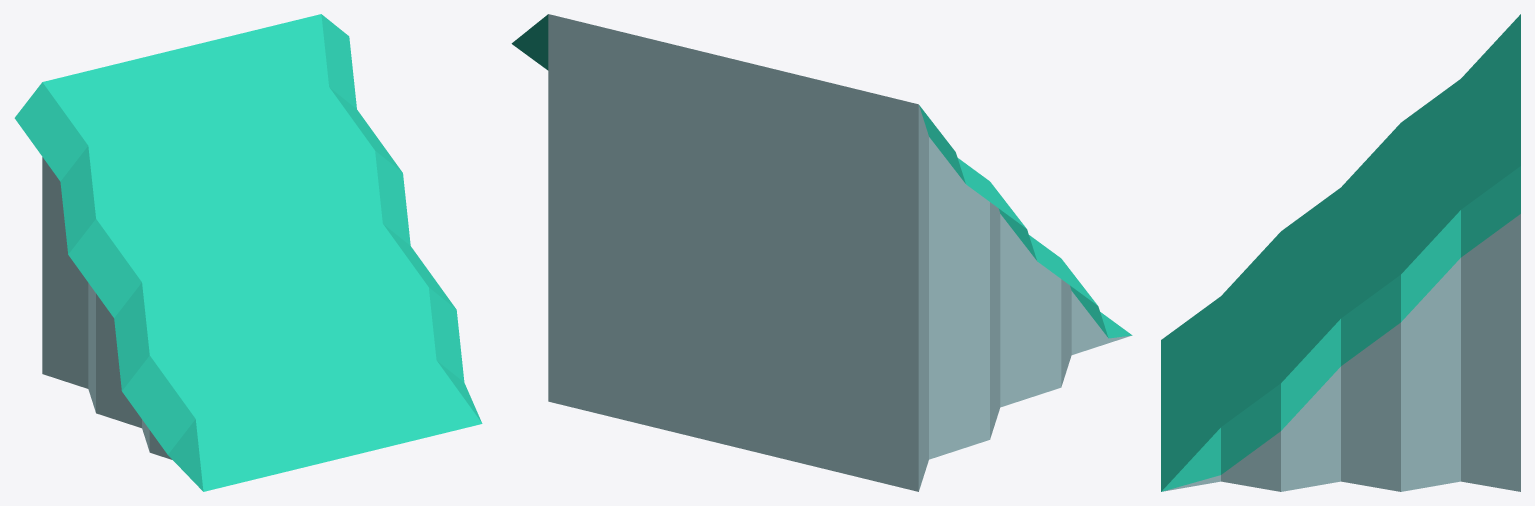
The model's file is cliff_blockSlope_stone.fbx.
3 views of the same model, side by side, from view 1: azimuth 30°, elevation 25°; view 2: azimuth 150°, elevation 25°; view 3: azimuth 270°, elevation 25° (orthographic). The views are drawn at different scales.
Visible parts, largest first — view 1: cliff_blockSlope_stone; view 2: cliff_blockSlope_stone; view 3: cliff_blockSlope_stone.
Boxes of the visible parts, left/top/right/bottom form: cliff_blockSlope_stone: left=14, top=14, right=482, bottom=491; cliff_blockSlope_stone: left=511, top=14, right=1132, bottom=491; cliff_blockSlope_stone: left=1161, top=14, right=1520, bottom=491.
Size of the model in its own units: 12 by 10 by 10.
